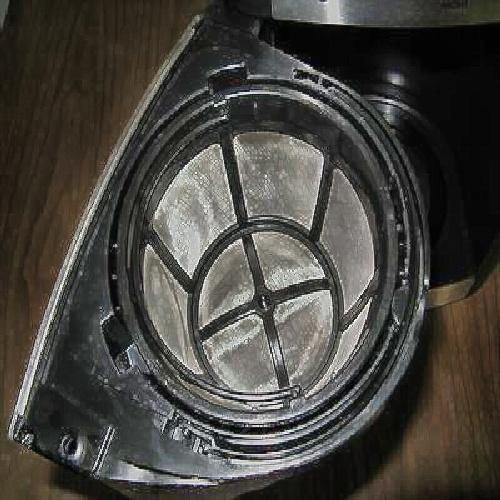coffee_maker: (64, 39, 452, 458)
